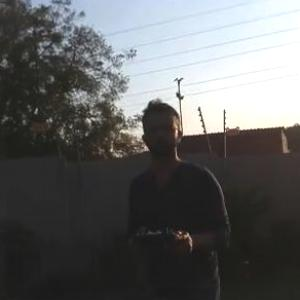follow: (118, 93, 235, 299)
